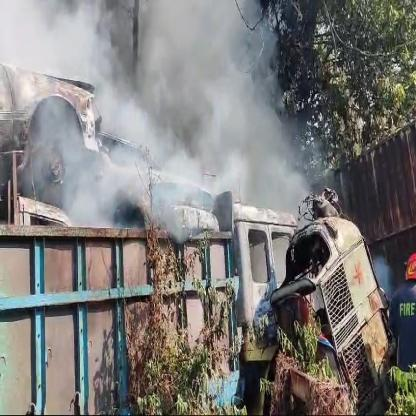Smoke: (0, 0, 343, 247)
